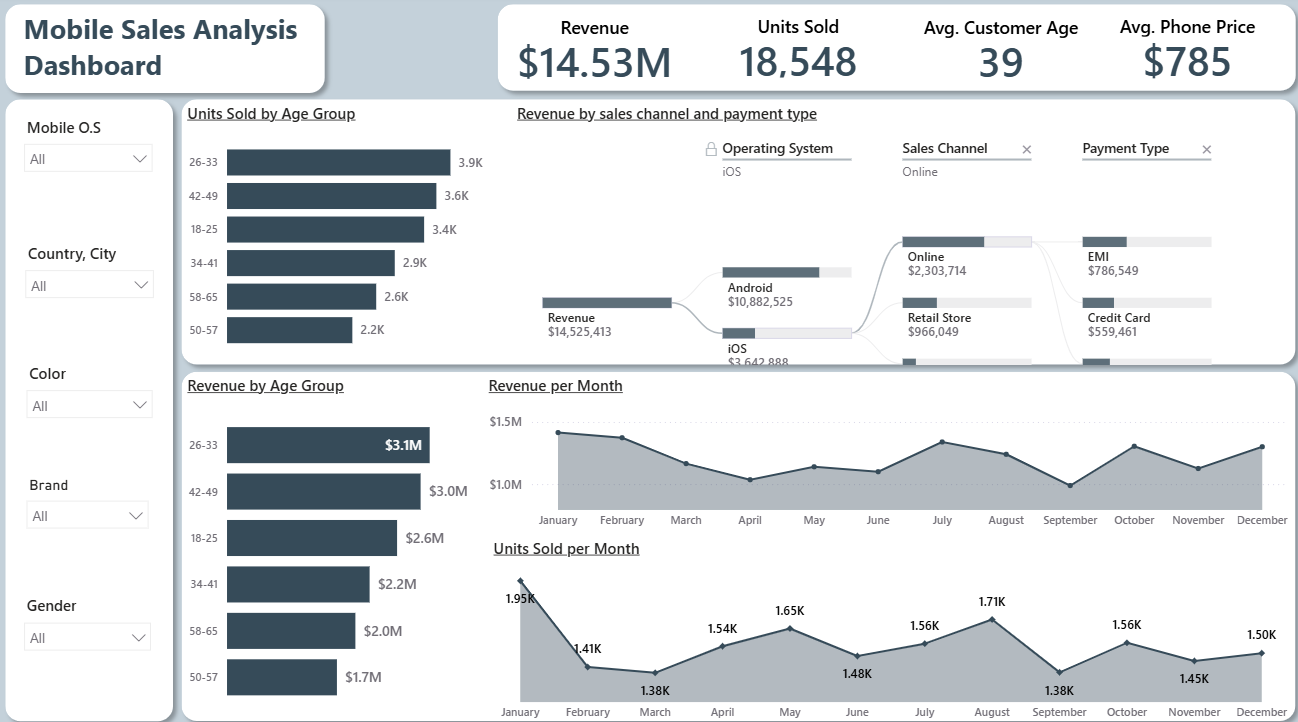

Layout of this report page (visuals, bound fields, positions):
{"tool":"powerbi","page":{"name":"Page 2","canvas":[1280,720],"ordinal":1},"visuals":[{"type":"shape","box":[481.4,0,798.7,102.5],"z":0},{"type":"shape","box":[0,0,330.6,105],"z":1000},{"type":"shape","box":[172.3,359.7,1107.7,359.7],"z":2000},{"type":"shape","box":[172.3,93,1107.7,277.6],"z":3000},{"type":"clusteredBarChart","title":"Revenue by Age Group","fields":{"Category":["Fact_Sales.Customer_Age_Group"],"Y":["Sum(Fact_Sales.Total_Revenue)"]},"box":[182.6,371.4,286.9,337.8],"z":4000},{"type":"lineChart","title":"Units Sold per Month","fields":{"Y":["Sum(Fact_Sales.Units_Sold)"],"Category":["Fact_Sales.End of Month.Variation.Date Hierarchy.Quarter","Fact_Sales.End of Month.Variation.Date Hierarchy.Month"]},"box":[481.4,530.8,789,188.2],"z":5000},{"type":"lineChart","title":"Revenue per Month","fields":{"Y":["Sum(Fact_Sales.Total_Revenue)"],"Category":["Fact_Sales.End of Month.Variation.Date Hierarchy.Quarter","Fact_Sales.End of Month.Variation.Date Hierarchy.Month"]},"box":[481.4,371.6,789,159.3],"z":6000},{"type":"decompositionTreeVisual","title":"Revenue by sales channel and payment type","fields":{"Analyze":["Sum(Fact_Sales.Total_Revenue)"],"ExplainBy":["Fact_Sales.Operating_System","Fact_Sales.Sales_Channel","Fact_Sales.Payment_Type"]},"box":[503.1,105,767.3,257],"z":7000},{"type":"barChart","title":"Units Sold by Age Group","fields":{"Y":["Sum(Fact_Sales.Units_Sold)"],"Category":["Fact_Sales.Customer_Age_Group"]},"box":[182.2,105,311.3,254.6],"z":8000},{"type":"card","title":"Revenue","fields":{"Values":["Sum(Fact_Sales.Total_Revenue)"]},"box":[493.4,19.3,183.4,67.6],"z":9000},{"type":"card","title":"Units Sold","fields":{"Values":["Sum(Fact_Sales.Units_Sold)"]},"box":[684.1,18.1,202.7,67.6],"z":10000},{"type":"card","title":"Avg. Customer Age","fields":{"Values":["Avg(Fact_Sales.Customer_Age)"]},"box":[894,19.3,178.6,67.6],"z":11000},{"type":"card","title":"Avg. Phone Price","fields":{"Values":["Avg(Fact_Sales.Price)"]},"box":[1072.4,17.7,186.3,68.4],"z":12000},{"type":"textbox","box":[22.4,9.9,295.6,84.5],"z":13000},{"type":"shape","box":[0,92.4,182.2,626.5],"z":14000},{"type":"slicer","fields":{"Values":["Fact_Sales.Country","Fact_Sales.City"]},"box":[18.1,237.7,146,117],"z":15000},{"type":"slicer","fields":{"Values":["Fact_Sales.Operating_System"]},"box":[17.5,113.6,146,123.6],"z":16000},{"type":"slicer","fields":{"Values":["Fact_Sales.Color"]},"box":[20,354.4,143.5,111.1],"z":17000},{"type":"slicer","fields":{"Values":["Fact_Sales.Customer_Gender"]},"box":[17.5,581.6,144.8,128.5],"z":18000},{"type":"slicer","fields":{"Values":["Fact_Sales.Brand"]},"box":[20,465.5,139.8,116.1],"z":19000}]}

Visuals, with their boxes in screenshot pixels (x1, y1, x2, y2), scaled from the page's 1280x720 canvas onto the 1298x722 screenshot:
shape: locate(488, 0, 1297, 103)
shape: locate(0, 0, 335, 105)
shape: locate(175, 361, 1297, 721)
shape: locate(175, 93, 1297, 372)
"Revenue by Age Group" clusteredBarChart: locate(185, 372, 476, 711)
"Units Sold per Month" lineChart: locate(488, 532, 1288, 721)
"Revenue per Month" lineChart: locate(488, 373, 1288, 532)
"Revenue by sales channel and payment type" decompositionTreeVisual: locate(510, 105, 1288, 363)
"Units Sold by Age Group" barChart: locate(185, 105, 500, 361)
"Revenue" card: locate(500, 19, 686, 87)
"Units Sold" card: locate(694, 18, 899, 86)
"Avg. Customer Age" card: locate(907, 19, 1088, 87)
"Avg. Phone Price" card: locate(1087, 18, 1276, 86)
textbox: locate(23, 10, 322, 95)
shape: locate(0, 93, 185, 721)
slicer - Fact_Sales.Country x Fact_Sales.City: locate(18, 238, 166, 356)
slicer - Fact_Sales.Operating_System: locate(18, 114, 166, 238)
slicer - Fact_Sales.Color: locate(20, 355, 166, 467)
slicer - Fact_Sales.Customer_Gender: locate(18, 583, 165, 712)
slicer - Fact_Sales.Brand: locate(20, 467, 162, 583)
